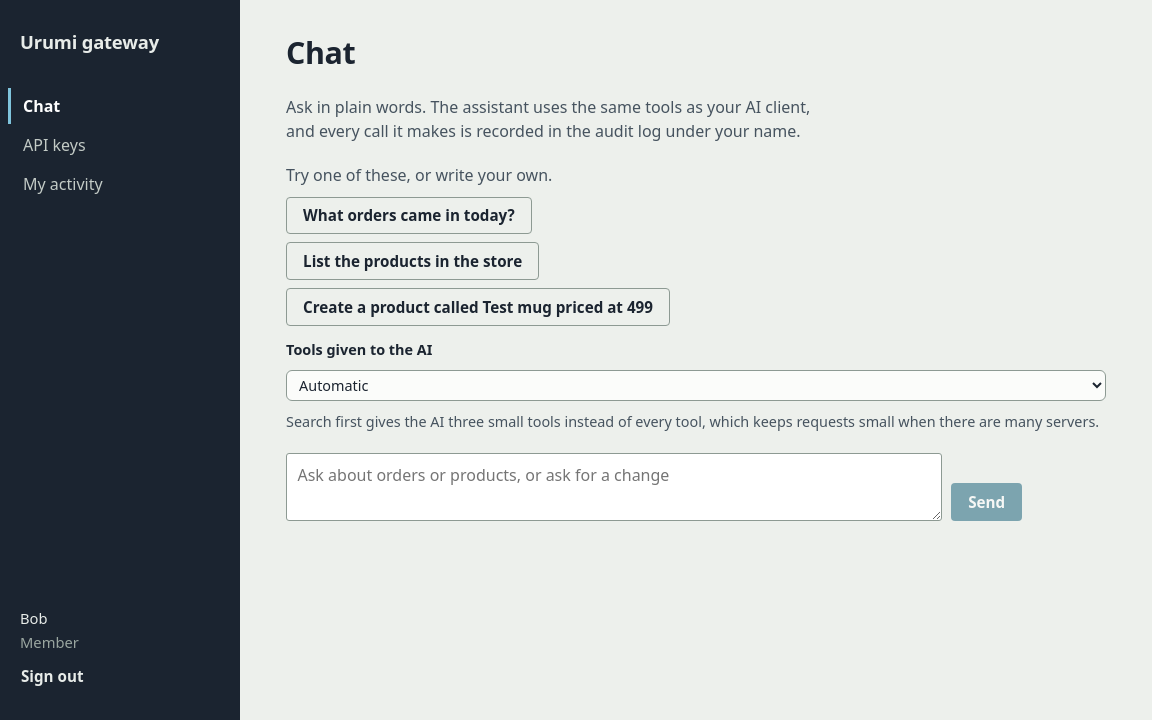
Test case: chat › sends the earlier messages with each new one, and starts fresh on New chat
Check: the heading "Chat" is shown, box [286,36,355,71]
Step 1. Type "first question" into the text box named "Your message" → [614, 487], box [286,453,942,521]
Then press Enter
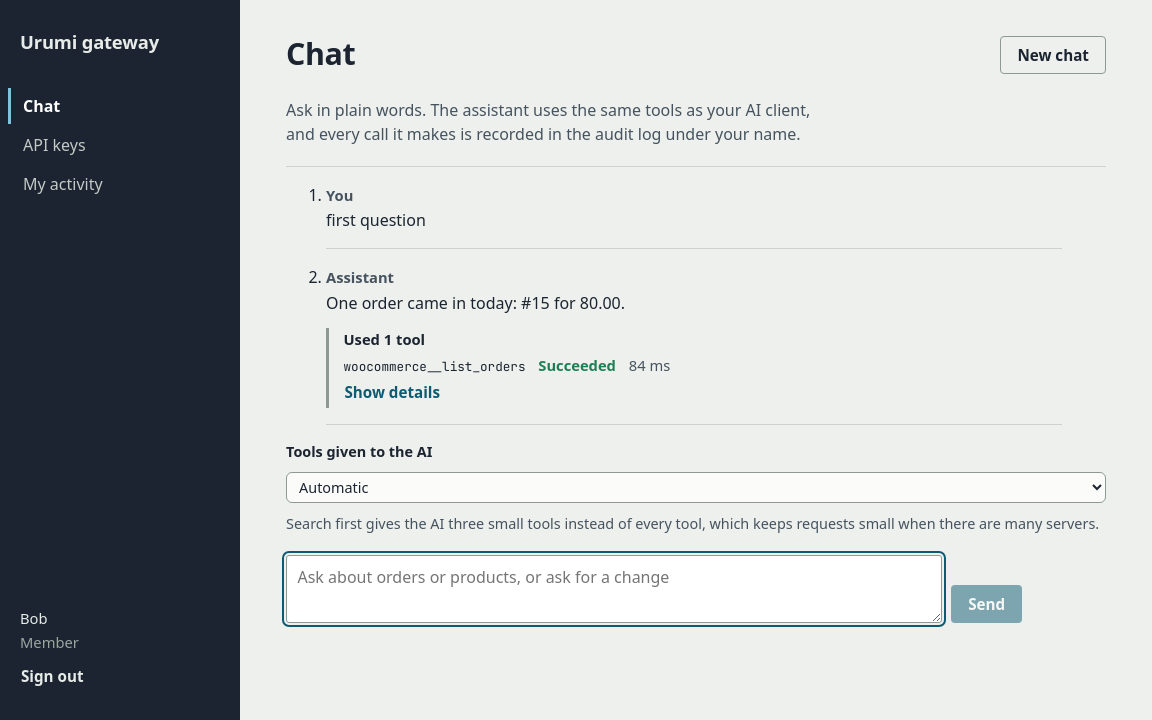
Check: the text "One order came in today: #15 for 80.00." is shown, box [326,292,625,314]
Step 2. Type "and yesterday?" into the text box with placeholder "Ask about orders or products, or ask for a change" → [614, 589], box [286,555,942,623]
Then press Enter
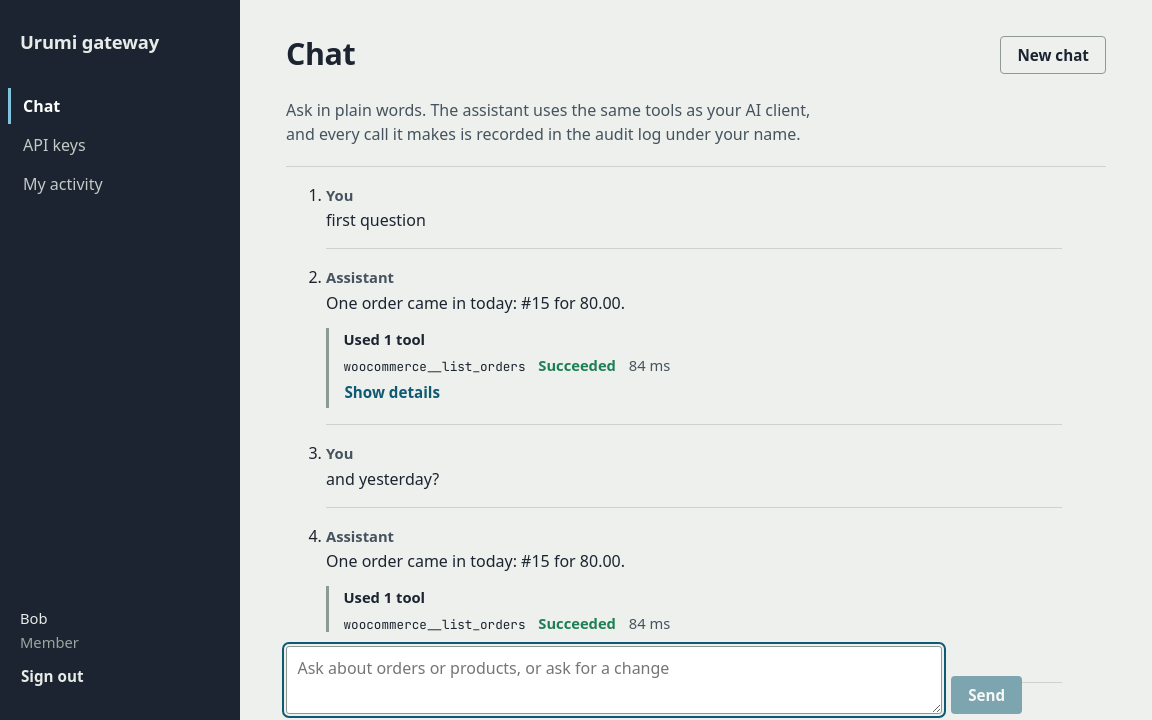
Step 3. Click the button "New chat" → [1053, 55], box [1000,36,1106,74]
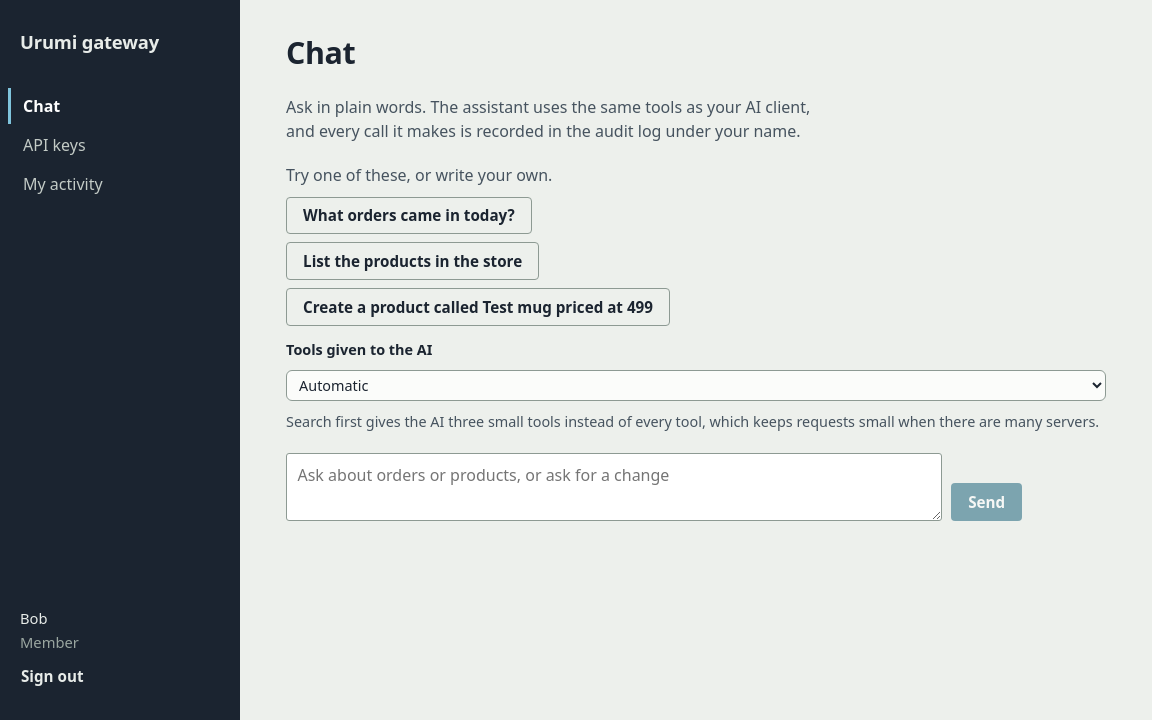
Check: the text "first question" is gone
